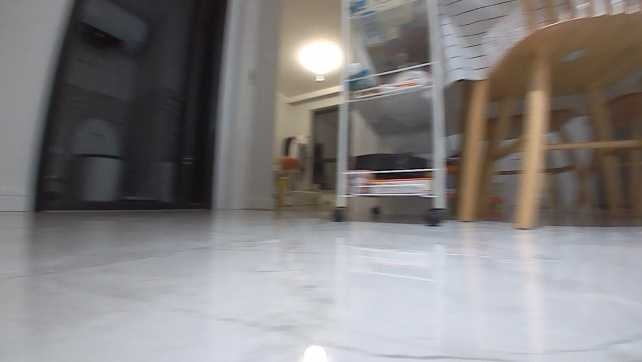toilet: (60, 115, 127, 200)
